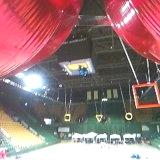Orange_Square_GShape: (132, 82, 160, 108)
Yellow_Circle_GShape: (125, 111, 133, 121)
Yellow_Square_GShape: (63, 114, 71, 122)
Yellow_Triangle_Gshape: (95, 114, 104, 122)
